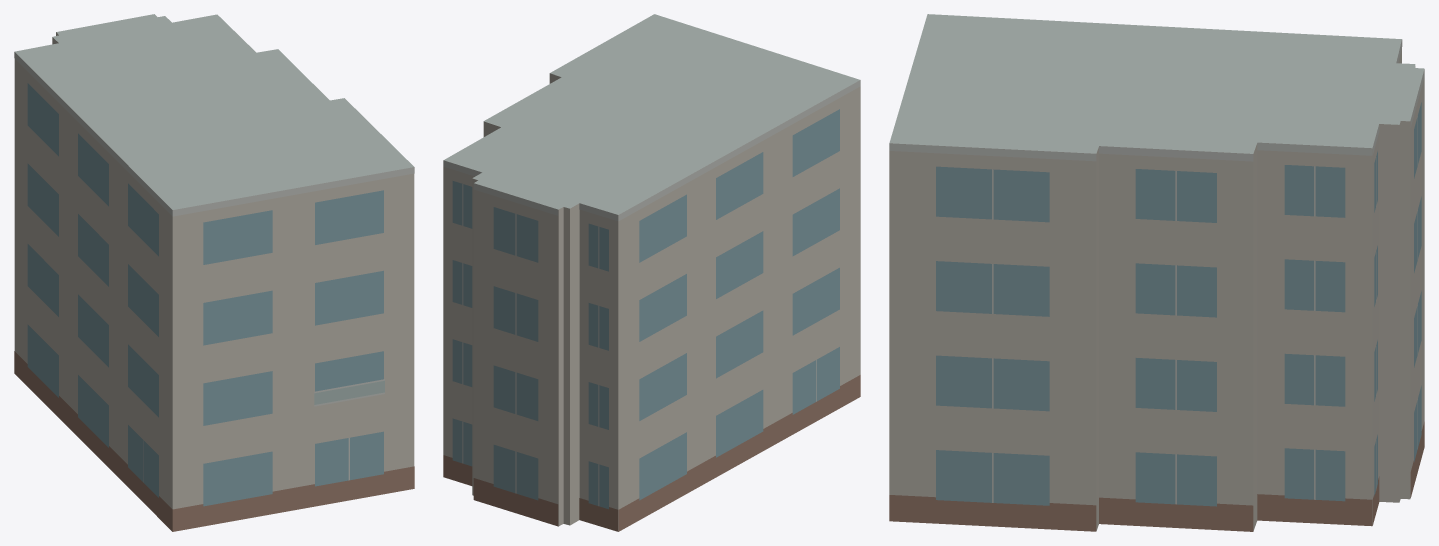
File: survey-upis-32668945.glb
3 renders of one model, left to right at view 1: azimuth 30°, elevation 25°; view 2: azimuth 150°, elevation 25°; view 3: azimuth 270°, elevation 25°, orthographic. The views are drawn at different scales.
Visible parts, largest first — view 1: survey-upis-32668945.tmp; view 2: survey-upis-32668945.tmp; view 3: survey-upis-32668945.tmp.
Boxes of the visible parts, x1,y1,x2,y2 form: survey-upis-32668945.tmp: [14, 14, 414, 531]; survey-upis-32668945.tmp: [443, 14, 860, 531]; survey-upis-32668945.tmp: [889, 14, 1424, 531].
Bounding box in the file's own units: 9.62 × 12.1 × 15.54.
